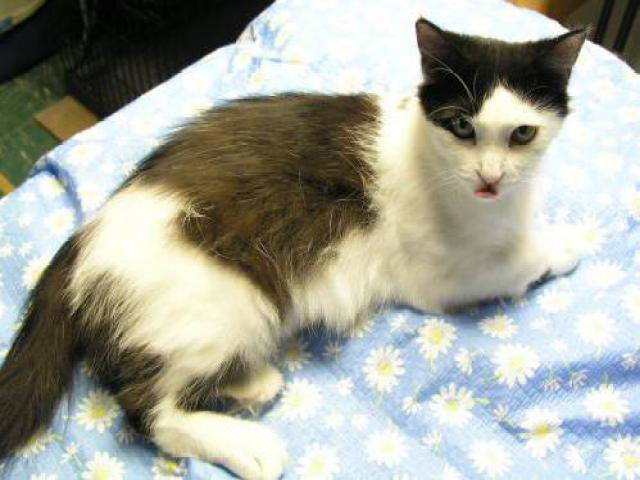cat: (23, 2, 605, 473)
